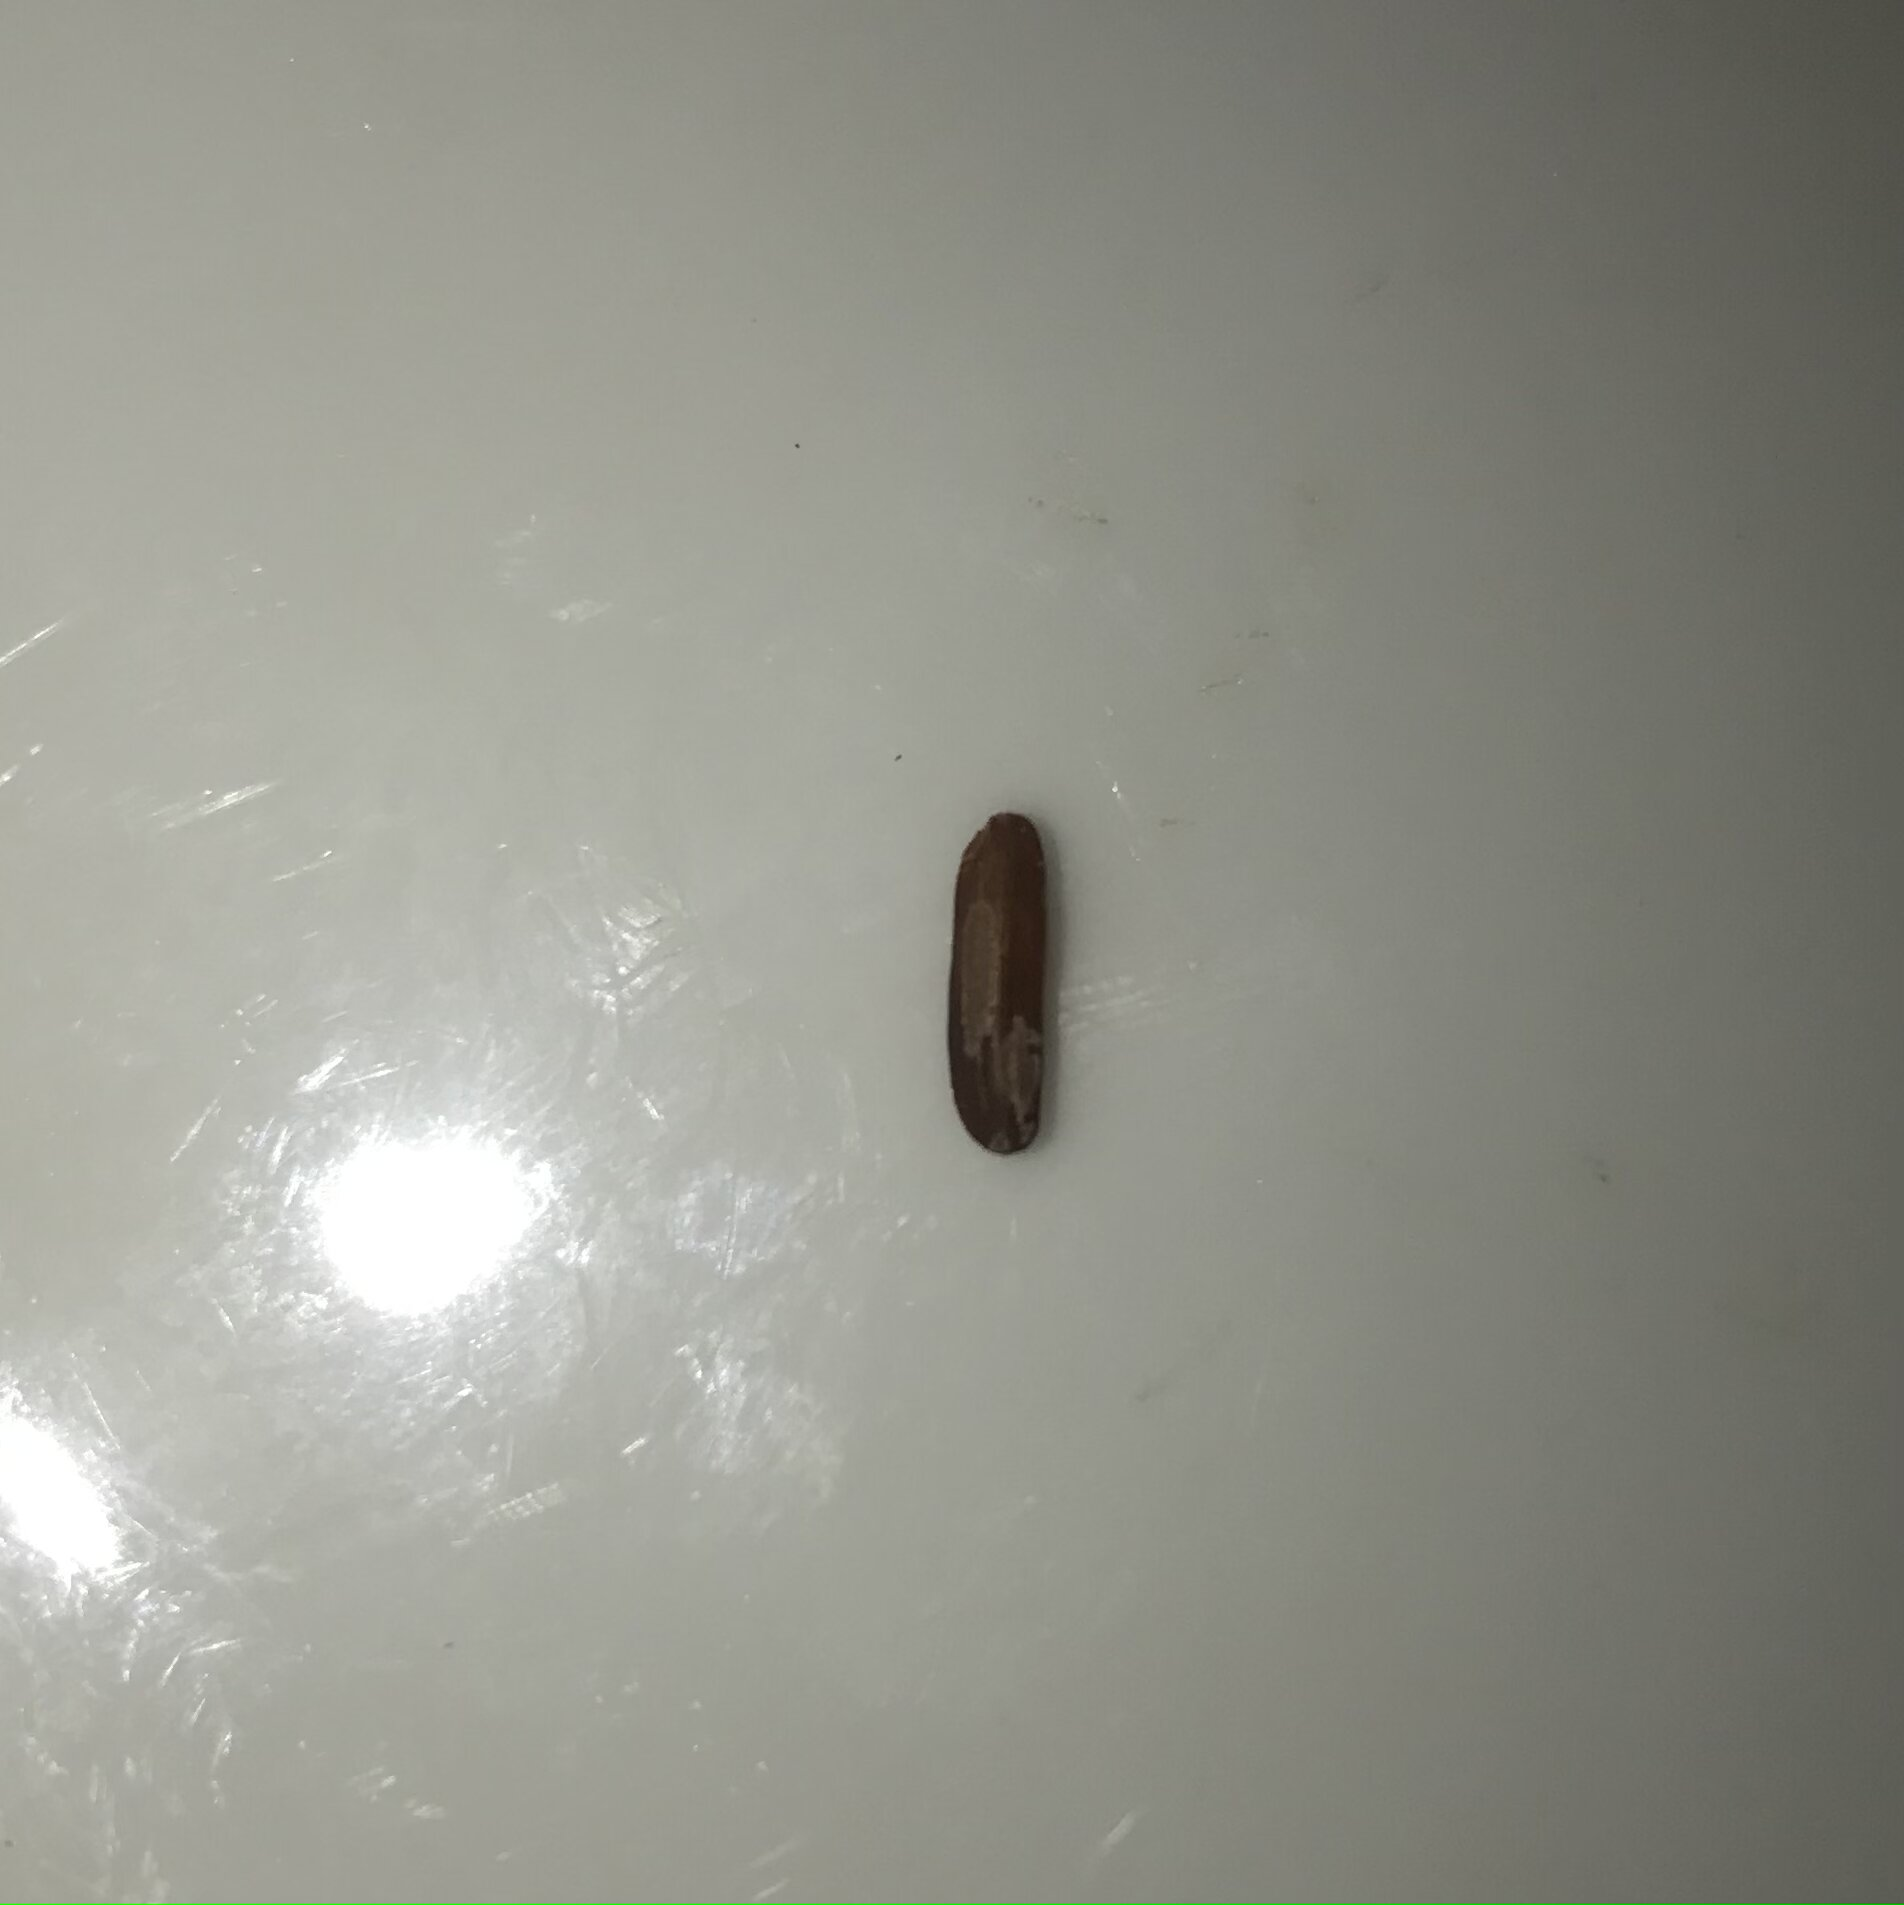Gao Huyet Rong: (936, 797, 1078, 1171)
